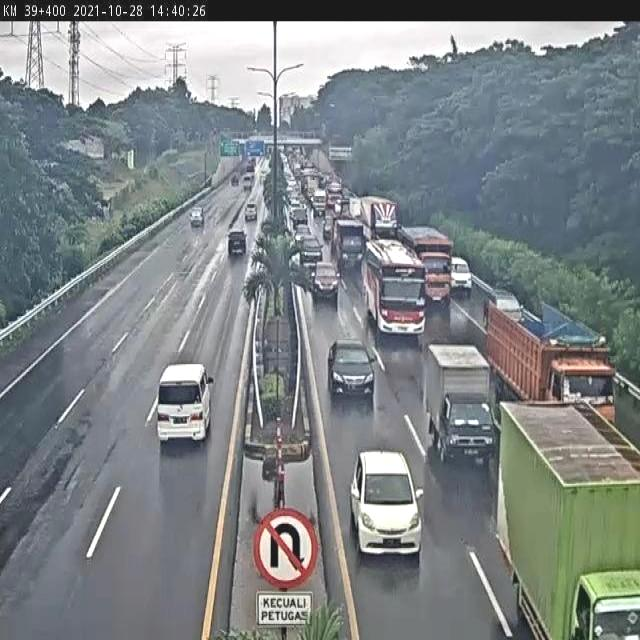Bus: (361, 237, 430, 341), (348, 197, 402, 241)
Car: (349, 451, 427, 560), (324, 334, 378, 404), (308, 256, 342, 308), (448, 259, 477, 294), (297, 237, 322, 266), (225, 230, 244, 260), (188, 203, 208, 228), (289, 209, 309, 231), (243, 201, 259, 223)
Truck: (490, 410, 636, 640), (486, 284, 618, 406), (417, 347, 501, 471), (403, 228, 456, 312), (333, 220, 367, 270), (311, 189, 330, 220)
Van: (144, 352, 224, 456)
